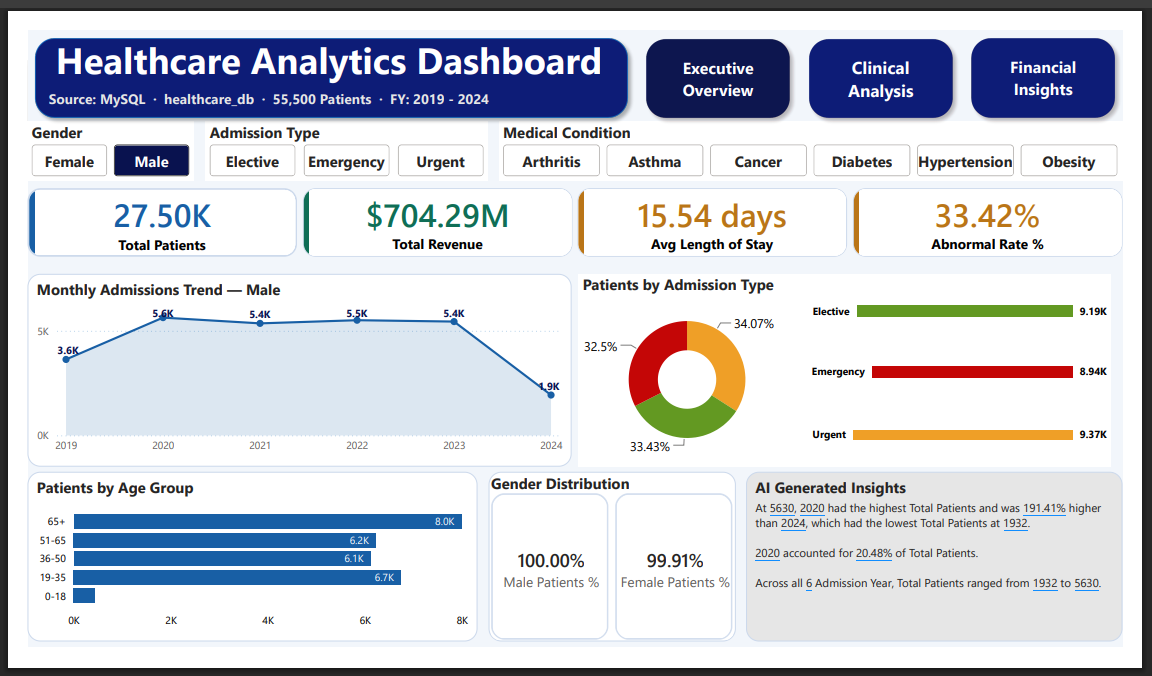

What the dashboard file says about the page in this screenshot:
{"tool":"powerbi","page":{"name":"Executive Overview","canvas":[1280,720],"ordinal":0},"visuals":[{"type":"cardVisual","fields":{"Data":["CountNonNull(healthcare_db healthcare.Name)"]},"box":[0,184.3,315,80],"z":0},{"type":"donutChart","title":"Patients by Admission Type","fields":{"Category":["healthcare_db healthcare.Admission_Type"],"Y":["CountNonNull(healthcare_db healthcare.Name)"]},"box":[643.8,284,253.9,225],"z":0,"group":"g1"},{"type":"cardVisual","fields":{"Data":["healthcare_db healthcare.Total Revenue"]},"box":[321.7,184.3,315,80],"z":1000},{"type":"barChart","fields":{"Category":["healthcare_db healthcare.Admission_Type"],"Y":["CountNonNull(healthcare_db healthcare.Name)"]},"box":[910.6,284.3,355.7,79.9],"z":1000,"group":"g1"},{"type":"cardVisual","fields":{"Data":["healthcare_db healthcare.Avg Length of Stay"]},"box":[643.3,184.3,315,80],"z":2000},{"type":"barChart","fields":{"Category":["healthcare_db healthcare.Admission_Type"],"Y":["CountNonNull(healthcare_db healthcare.Name)"]},"box":[910.6,432.1,355.7,71.9],"z":2000,"group":"g1"},{"type":"barChart","fields":{"Category":["healthcare_db healthcare.Admission_Type"],"Y":["CountNonNull(healthcare_db healthcare.Name)"]},"box":[910.6,353.6,355.7,81.2],"z":3000,"group":"g1"},{"type":"lineChart","fields":{"Y":["healthcare_db healthcare.Total Patients"],"Category":["healthcare_db healthcare.Admission_Year","healthcare_db healthcare.Admission_Month"]},"box":[0,283.8,636.2,225],"z":4000},{"type":"barChart","title":"Patients by Age Group","fields":{"Category":["healthcare_db healthcare.Age_Group"],"Y":["healthcare_db healthcare.Total Patients"]},"box":[0,515,526.2,197.5],"z":5000},{"type":"cardVisual","title":"Gender Distribution","fields":{"Data":["healthcare_db healthcare.Male Patients","healthcare_db healthcare.Female Patients"]},"box":[538.8,515,288.8,197.5],"z":6000},{"type":"textbox","title":"AI Generated Insights","box":[840,515,440,197.5],"z":7000},{"type":"advancedSlicerVisual","fields":{"Values":["healthcare_db healthcare.Gender"]},"box":[0,106.2,195,70],"z":8000},{"type":"advancedSlicerVisual","fields":{"Values":["healthcare_db healthcare.Admission_Type"]},"box":[208.1,106.2,330,70],"z":9000},{"type":"cardVisual","fields":{"Data":["healthcare_db healthcare.Abnormal Rate Percentage"]},"box":[965,184.3,315,80],"z":10000},{"type":"advancedSlicerVisual","fields":{"Values":["healthcare_db healthcare.Medical_Condition"]},"box":[551.2,106.2,728.8,70],"z":11000},{"type":"actionButton","box":[905,1.2,185,110],"z":12000},{"type":"actionButton","box":[715,1.2,185,110],"z":13000},{"type":"actionButton","box":[1095,0,185,110],"z":14000},{"type":"shape","box":[0,0,710,110],"z":15000},{"type":"textbox","box":[27.5,0,666.2,73.8],"z":16000},{"type":"textbox","box":[20,63.8,697.5,42.5],"z":17000},{"type":"group","id":"g1","title":"Group 1","box":[643.8,284,622.5,225],"z":18000}]}

Visuals, with their boxes on the page's 1280x720 design canvas (x1, y1, x2, y2). These are canvas units, not pixel positions in the 1152x676 screenshot, which may show the page scaled, cropped or inside an application window:
cardVisual - CountNonNull(healthcare_db healthcare.Name): rect(0, 184, 315, 264)
"Patients by Admission Type" donutChart: rect(644, 284, 898, 509)
cardVisual - healthcare_db healthcare.Total Revenue: rect(322, 184, 637, 264)
barChart - healthcare_db healthcare.Admission_Type x CountNonNull(healthcare_db healthcare.Name): rect(911, 284, 1266, 364)
cardVisual - healthcare_db healthcare.Avg Length of Stay: rect(643, 184, 958, 264)
barChart - healthcare_db healthcare.Admission_Type x CountNonNull(healthcare_db healthcare.Name): rect(911, 432, 1266, 504)
barChart - healthcare_db healthcare.Admission_Type x CountNonNull(healthcare_db healthcare.Name): rect(911, 354, 1266, 435)
lineChart - healthcare_db healthcare.Total Patients x healthcare_db healthcare.Admission_Year: rect(0, 284, 636, 509)
"Patients by Age Group" barChart: rect(0, 515, 526, 712)
"Gender Distribution" cardVisual: rect(539, 515, 828, 712)
"AI Generated Insights" textbox: rect(840, 515, 1280, 712)
advancedSlicerVisual - healthcare_db healthcare.Gender: rect(0, 106, 195, 176)
advancedSlicerVisual - healthcare_db healthcare.Admission_Type: rect(208, 106, 538, 176)
cardVisual - healthcare_db healthcare.Abnormal Rate Percentage: rect(965, 184, 1280, 264)
advancedSlicerVisual - healthcare_db healthcare.Medical_Condition: rect(551, 106, 1280, 176)
actionButton: rect(905, 1, 1090, 111)
actionButton: rect(715, 1, 900, 111)
actionButton: rect(1095, 0, 1280, 110)
shape: rect(0, 0, 710, 110)
textbox: rect(28, 0, 694, 74)
textbox: rect(20, 64, 718, 106)
"Group 1" group: rect(644, 284, 1266, 509)
